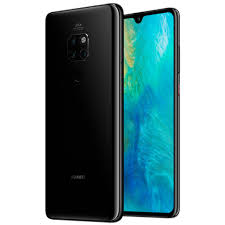huawei: (42, 3, 125, 222), (116, 3, 181, 219)
